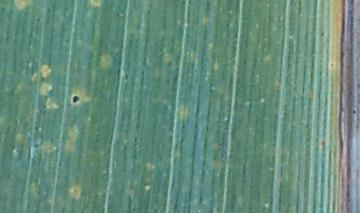tarspot: (72, 94, 80, 104), (351, 108, 357, 115)
